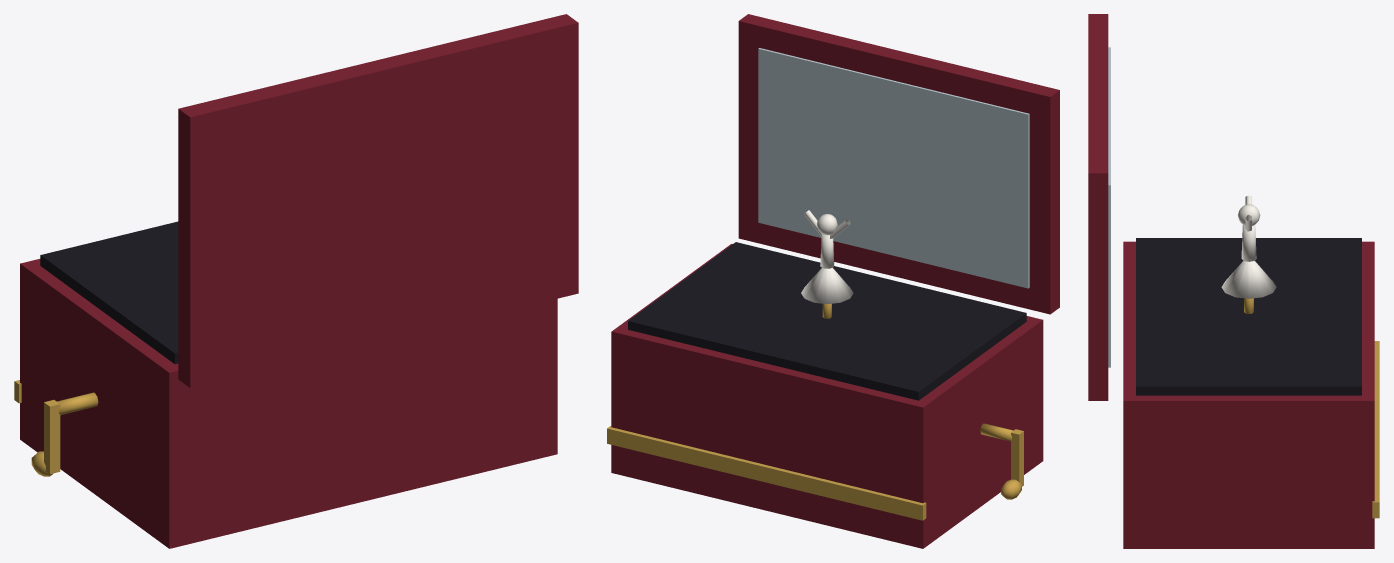
Rendered from SM_PRP_Caixinha.fbx.
3 renders of one model, left to right at view 1: azimuth 30°, elevation 25°; view 2: azimuth 150°, elevation 25°; view 3: azimuth 270°, elevation 25°, orthographic. The views are drawn at different scales.
Parts seen in each view (by area): view 1: SM_PRP_Caixinha; view 2: SM_PRP_Caixinha; view 3: SM_PRP_Caixinha.
Boxes of the visible parts, left/top/right/bottom form: SM_PRP_Caixinha: left=14, top=14, right=578, bottom=548; SM_PRP_Caixinha: left=607, top=14, right=1059, bottom=548; SM_PRP_Caixinha: left=1088, top=14, right=1379, bottom=548.
Size of the model in its own units: 0.3426 by 0.33 by 0.232.
